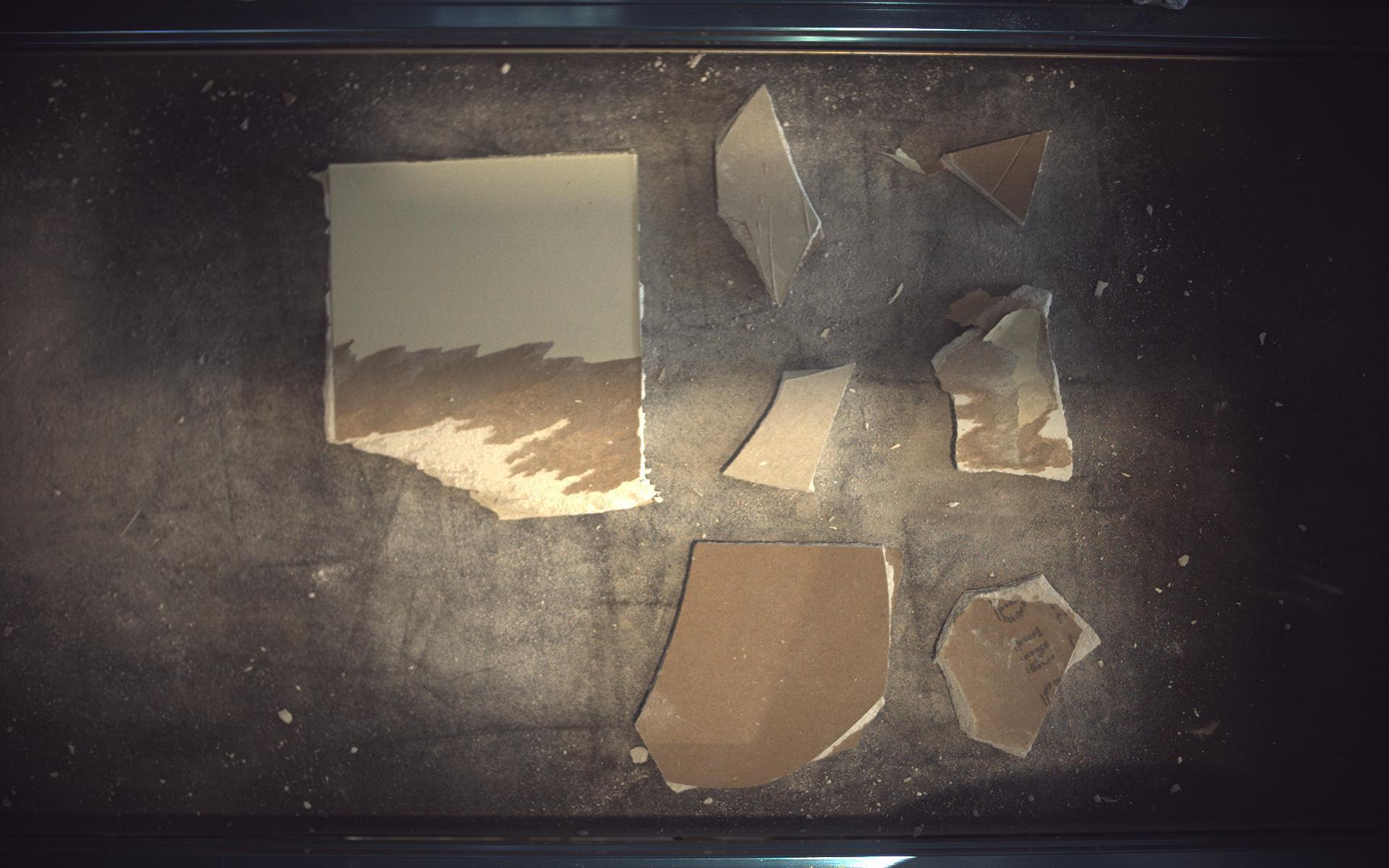gypsum_board: (324, 152, 657, 520), (637, 542, 904, 793), (937, 574, 1103, 759), (933, 284, 1075, 481), (718, 84, 824, 305), (724, 364, 857, 492), (943, 131, 1052, 225)
